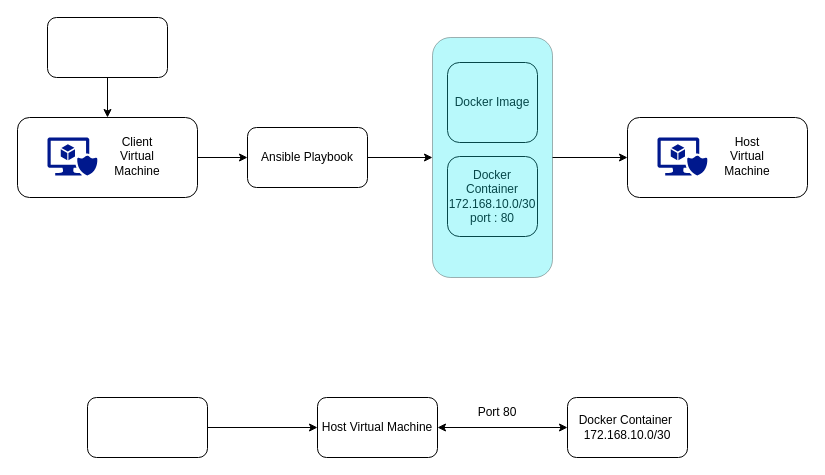
The diagram is 825 pixels wide and 475 high, and some of its shapes have lost their labels. The shapes that lost their labels are listed below. From the top down, each one's box as (x1, y1, x2, y2) in pixels, then its label:
(46, 16, 168, 78): GitHUB Repository
(432, 36, 552, 278): Virtual Env
(86, 396, 208, 458): Incoming Traffic
